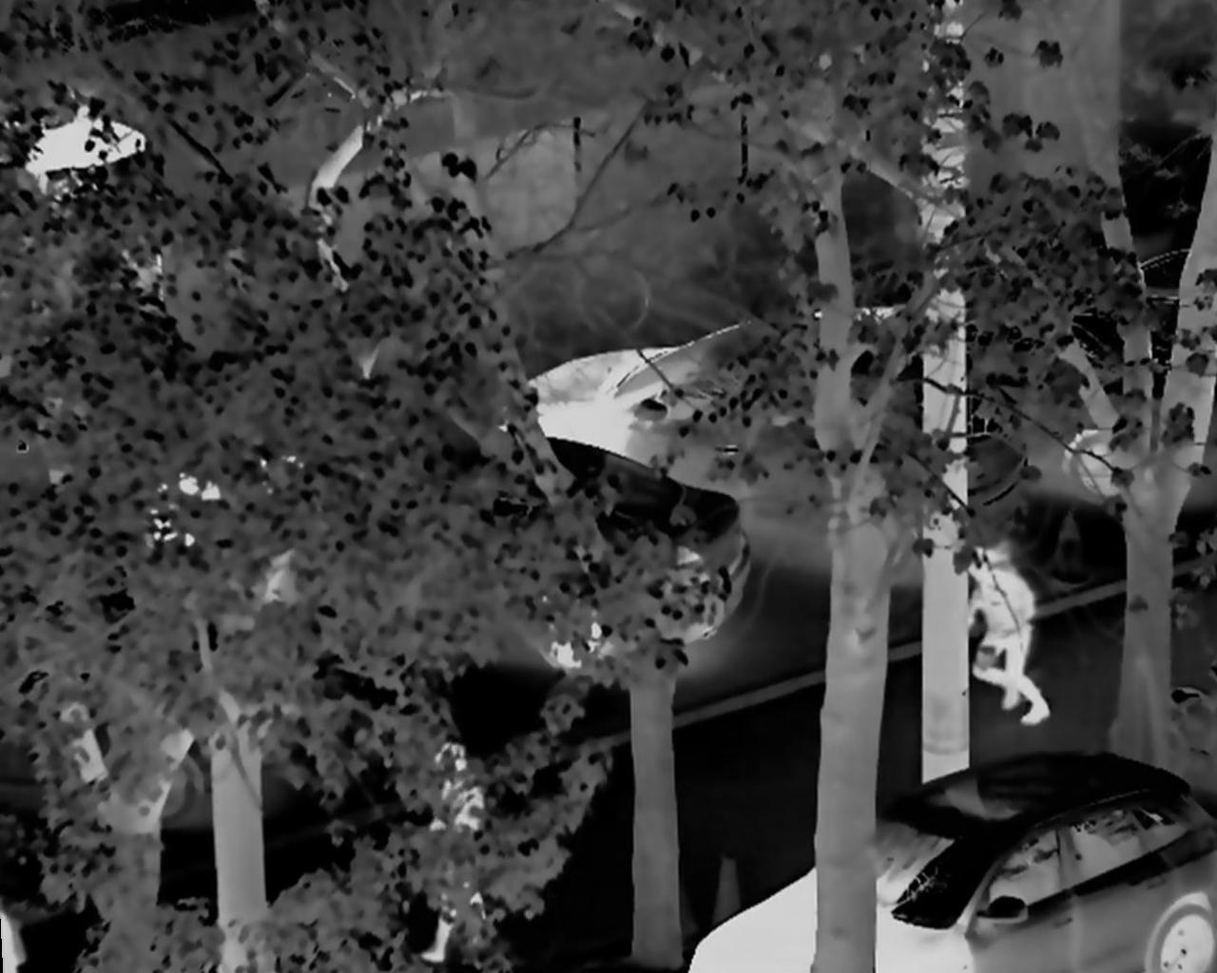person: (420, 735, 498, 971), (964, 529, 1053, 721)
